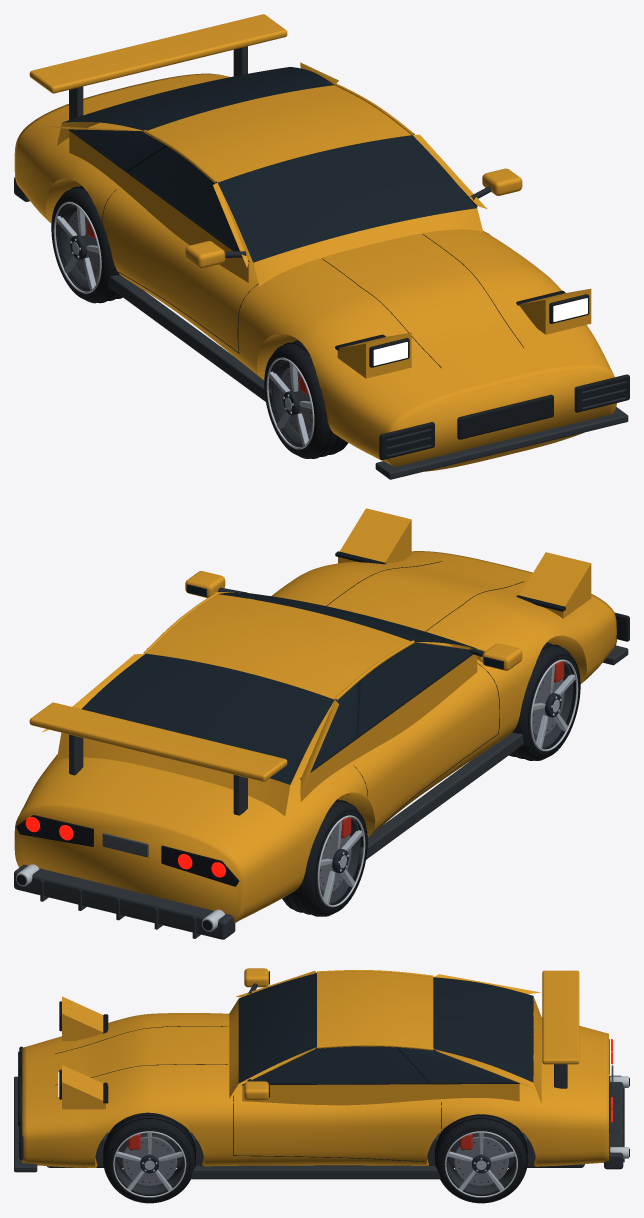
3 views of the same model, one above another, from view 1: azimuth 30°, elevation 25°; view 2: azimuth 150°, elevation 25°; view 3: azimuth 270°, elevation 25° (orthographic). The views are drawn at different scales.
Visible parts, largest first — view 1: Body_SculptedQuadShell, Web_Chassis_Rig_rx7_Exterior_NewPaint, Web_Chassis_Rig_V6_Detail_Glass, Web_Chassis_Rig_Graphite metal, Web_Chassis_Rig_Rubber, Web_Wheel_FR_Rubber, Web_Wheel_RR_Rubber, Web_Chassis_Rig_V6 Rubber, Web_Chassis_Rig_White LED, Web_Wheel_RR_V6 Forged alloy, Web_Wheel_FR_V6 Forged alloy, Web_Wheel_FR_Graphite metal (+3 smaller); view 2: Body_SculptedQuadShell, Web_Chassis_Rig_rx7_Exterior_NewPaint, Web_Chassis_Rig_V6_Detail_Glass, Web_Chassis_Rig_Graphite metal, Web_Chassis_Rig_V6 Rubber, Web_Wheel_RR_Rubber, Web_Wheel_FR_Rubber, Web_Wheel_FR_V6 Forged alloy, Web_Wheel_RR_V6 Forged alloy, Brake rotor.001, Brake rotor, Web_Chassis_Rig_V6 Red LED (+3 smaller); view 3: Body_SculptedQuadShell, Web_Chassis_Rig_rx7_Exterior_NewPaint, Web_Chassis_Rig_V6_Detail_Glass, Web_Chassis_Rig_Graphite metal, Web_Wheel_FL_Rubber, Web_Wheel_RL_Rubber, Web_Chassis_Rig_V6 Rubber, Brake rotor.003, Brake rotor.002, Web_Wheel_FL_Graphite metal, Web_Wheel_RL_Graphite metal, Web_Wheel_RL_V6 Forged alloy (+6 smaller).
Part boxes in pixels (x1,y1,x2,y2): Body_SculptedQuadShell: (14,73,616,471); Web_Chassis_Rig_rx7_Exterior_NewPaint: (29,14,591,378); Web_Chassis_Rig_V6_Detail_Glass: (62,67,476,262); Web_Chassis_Rig_Graphite metal: (14,46,628,479); Web_Chassis_Rig_Rubber: (369,294,629,459); Web_Wheel_FR_Rubber: (264,341,348,458); Web_Wheel_RR_Rubber: (51,186,121,303); Web_Chassis_Rig_V6 Rubber: (68,129,565,368); Web_Chassis_Rig_White LED: (373,298,587,365); Web_Wheel_RR_V6 Forged alloy: (56,207,98,290); Web_Wheel_FR_V6 Forged alloy: (269,363,311,446); Web_Wheel_FR_Graphite metal: (271,359,310,447); Body_SculptedQuadShell: (14,551,616,922); Web_Chassis_Rig_rx7_Exterior_NewPaint: (29,508,591,816); Web_Chassis_Rig_V6_Detail_Glass: (81,584,503,784); Web_Chassis_Rig_Graphite metal: (14,645,628,939); Web_Chassis_Rig_V6 Rubber: (16,551,565,886); Web_Wheel_RR_Rubber: (282,799,367,916); Web_Wheel_FR_Rubber: (510,643,580,760); Web_Wheel_FR_V6 Forged alloy: (533,664,575,748); Web_Wheel_RR_V6 Forged alloy: (320,820,362,903); Brake rotor.001: (532,673,564,737); Brake rotor: (319,829,351,892); Web_Chassis_Rig_V6 Red LED: (25,816,225,877); Body_SculptedQuadShell: (22,1013,608,1167); Web_Chassis_Rig_rx7_Exterior_NewPaint: (62,968,579,1109); Web_Chassis_Rig_V6_Detail_Glass: (238,971,533,1097); Web_Chassis_Rig_Graphite metal: (14,1051,624,1179); Web_Wheel_FL_Rubber: (104,1112,195,1203); Web_Wheel_RL_Rubber: (435,1114,526,1203); Web_Chassis_Rig_V6 Rubber: (55,1014,609,1161); Brake rotor.003: (122,1136,177,1186); Brake rotor.002: (454,1136,508,1186); Web_Wheel_FL_Graphite metal: (114,1136,184,1195); Web_Wheel_RL_Graphite metal: (446,1138,516,1195); Web_Wheel_RL_V6 Forged alloy: (447,1133,515,1190).
Size of the model in its own units: 2.13 by 1.23 by 4.49.
